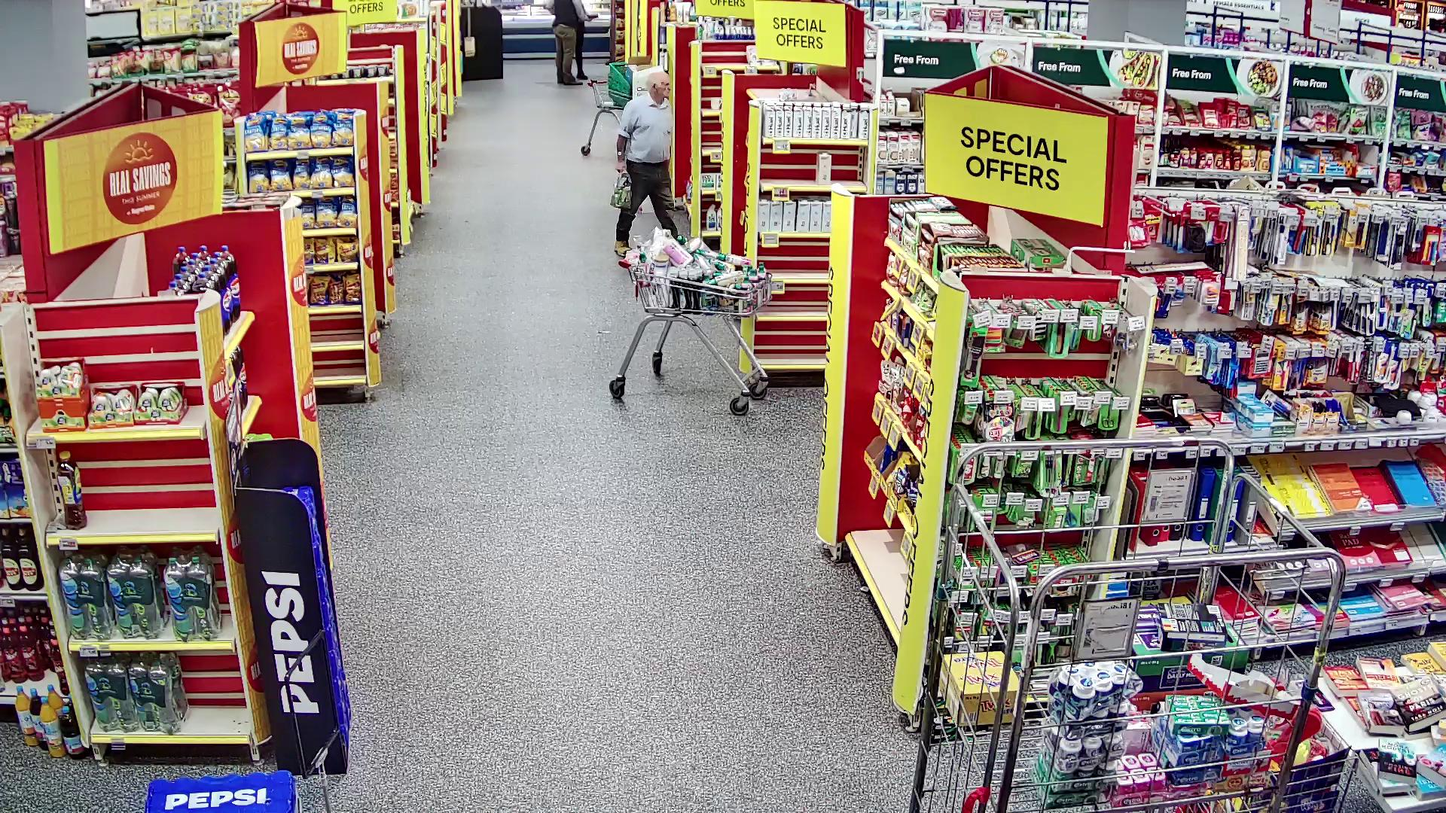filled-shopping-bags: (609, 172, 632, 210)
person: (614, 72, 677, 255)
person-with-filled-shopping-bag-s-: (609, 71, 678, 256)
